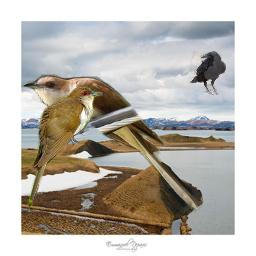Crow: (190, 51, 226, 95)
Cuckoo: (21, 74, 203, 213), (28, 85, 103, 210)
